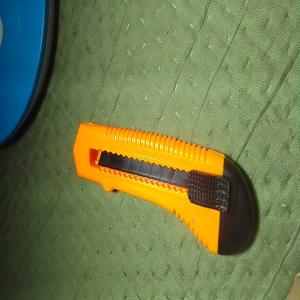estilete: (73, 122, 256, 257)
